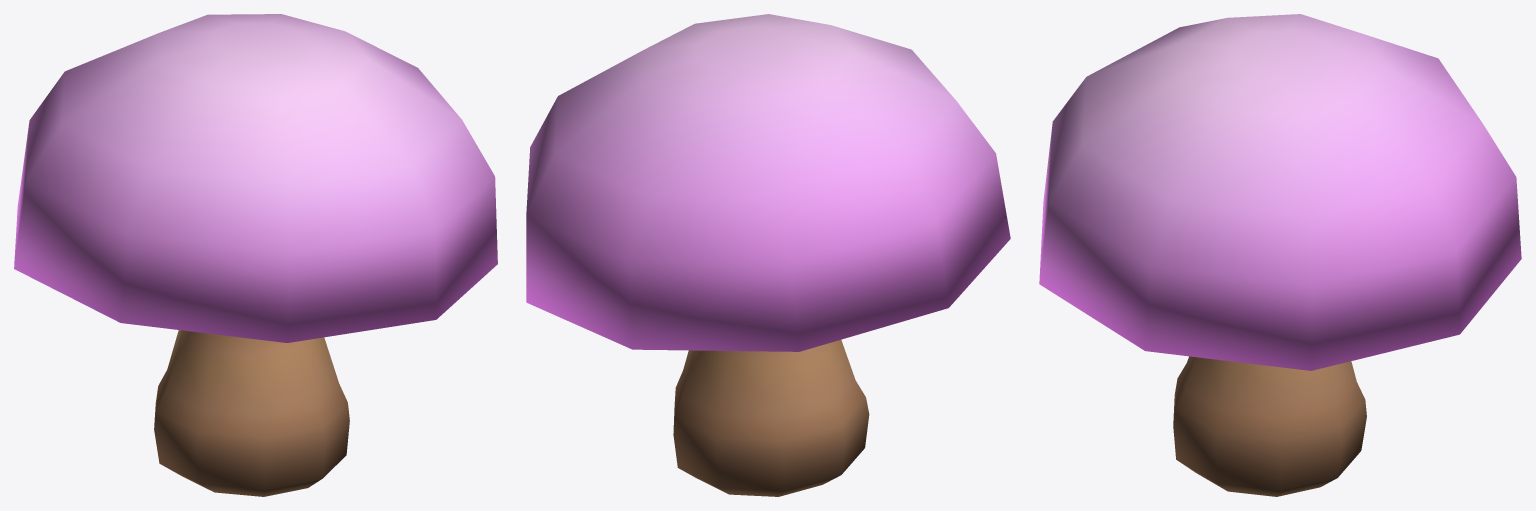
Rendered from Mushroom_3.fbx.
3 views of the same model, side by side, from view 1: azimuth 30°, elevation 25°; view 2: azimuth 150°, elevation 25°; view 3: azimuth 270°, elevation 25° (orthographic).
Visible parts, largest first — view 1: Mushroom_3; view 2: Mushroom_3; view 3: Mushroom_3.
Boxes of the visible parts, x1,y1,x2,y2 form: Mushroom_3: [14, 14, 497, 496]; Mushroom_3: [526, 14, 1010, 496]; Mushroom_3: [1039, 14, 1521, 496].
Bounding box in the file's own units: 29.73 × 28.48 × 29.47.
